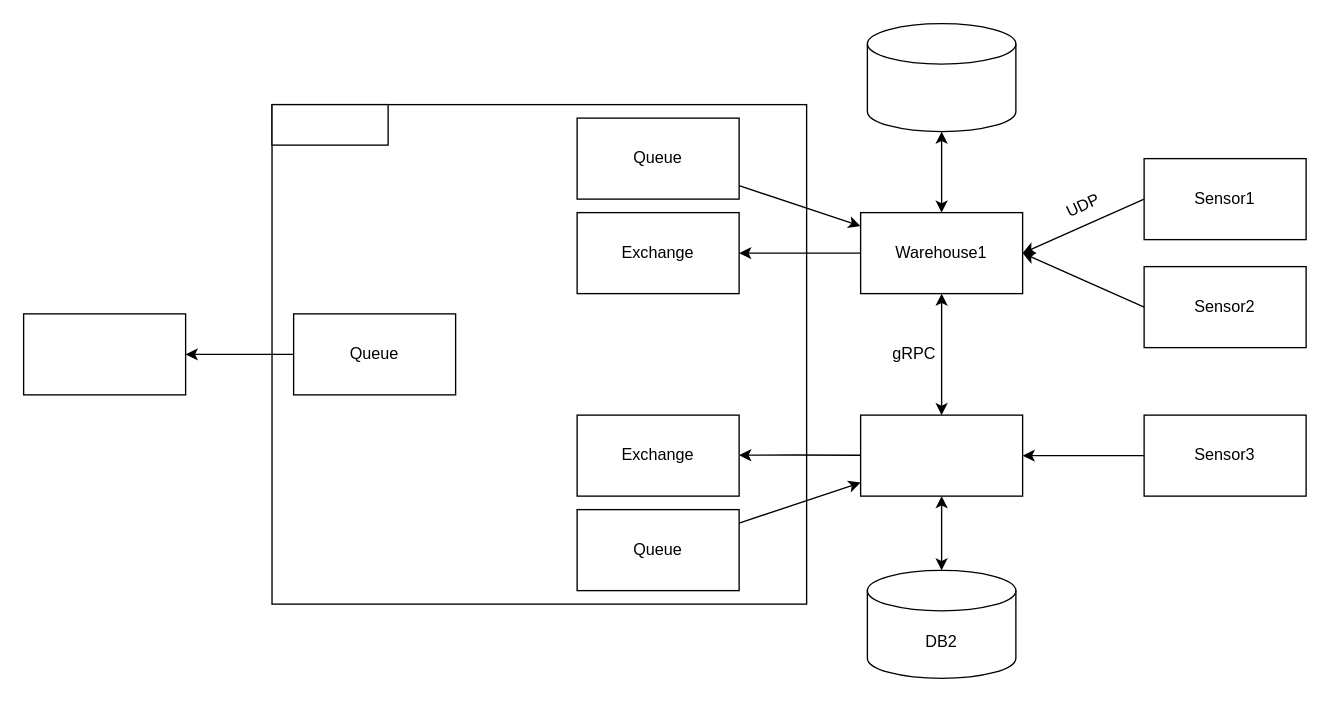
Some shapes in this 1330 by 702 pixel diagram are drawn without their labels. The centre of each missing label's shape, as x and y in pixels:
"DB1" belongs at (x=941, y=77).
"Monitor" belongs at (x=104, y=354).
"RabbitMQ" belongs at (x=329, y=124).
"Warehouse2" belongs at (x=941, y=455).
